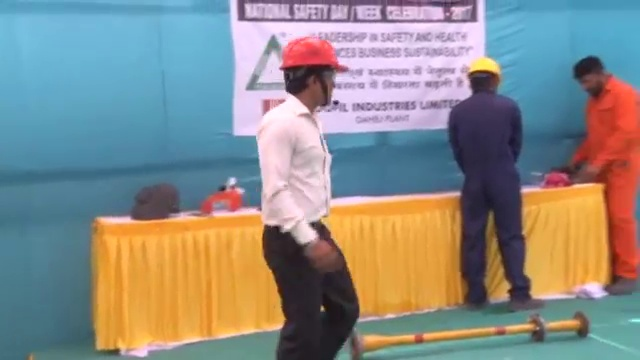helmet: (278, 34, 350, 73), (467, 56, 503, 78)
helmet_off: (572, 54, 614, 99)
helmet_on: (277, 31, 353, 119), (464, 53, 504, 99)
person: (257, 30, 362, 359), (447, 52, 548, 312), (571, 52, 639, 296)
